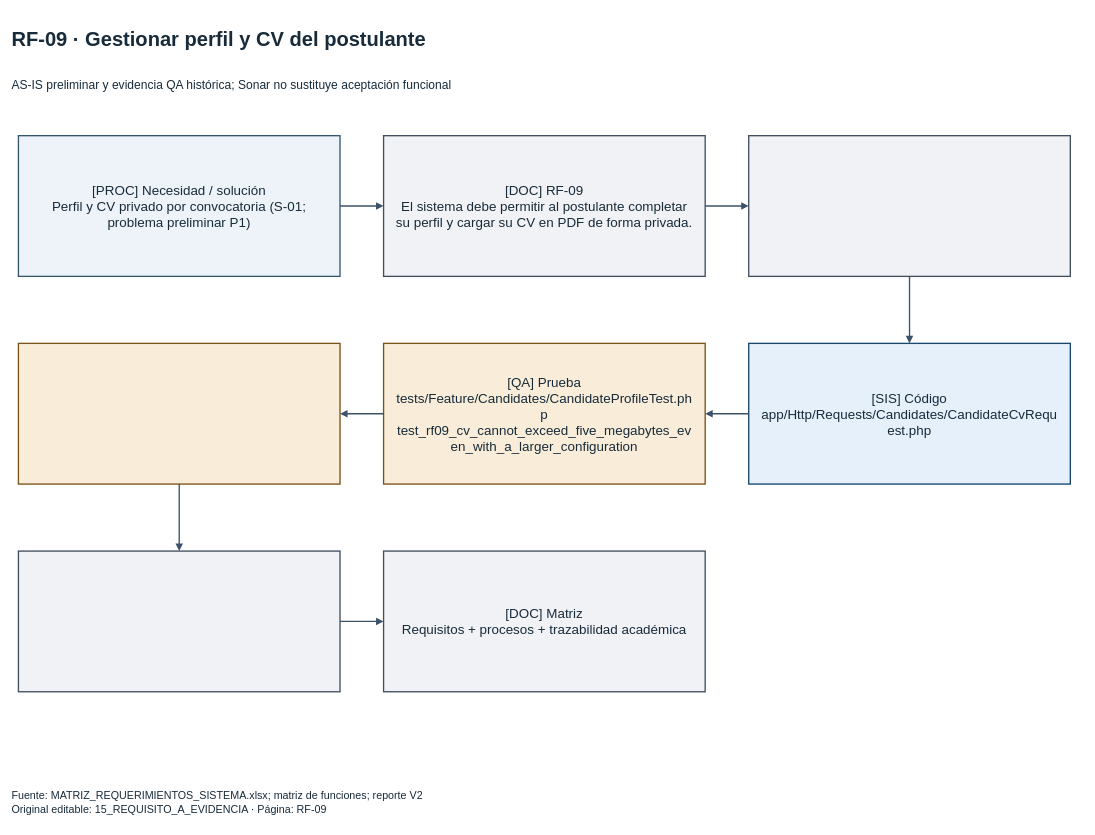
The diagram is 1095 pixels wide and 835 high, and some of its shapes have lost their labels. The shapes that lost their labels are listed below. From the top down, each one's centre as x and y in pixels, then its label:
[909,206]: [DOC] CU-08 Catálogo académico F8
[178,413]: [QA] SonarQube php:S5693 FIXED documentado; Clover importado
[178,621]: [DOC] Evidencia Informe V2 y métodos de tests presentes; no reejecutados
